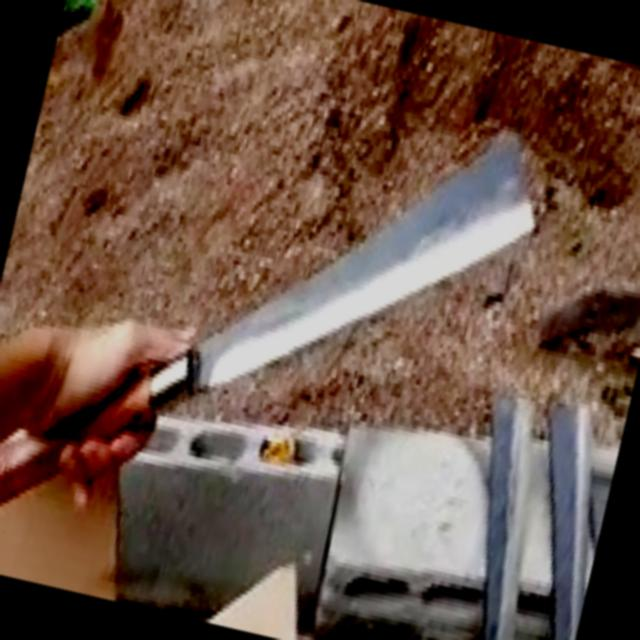eto: (0, 126, 540, 508)
